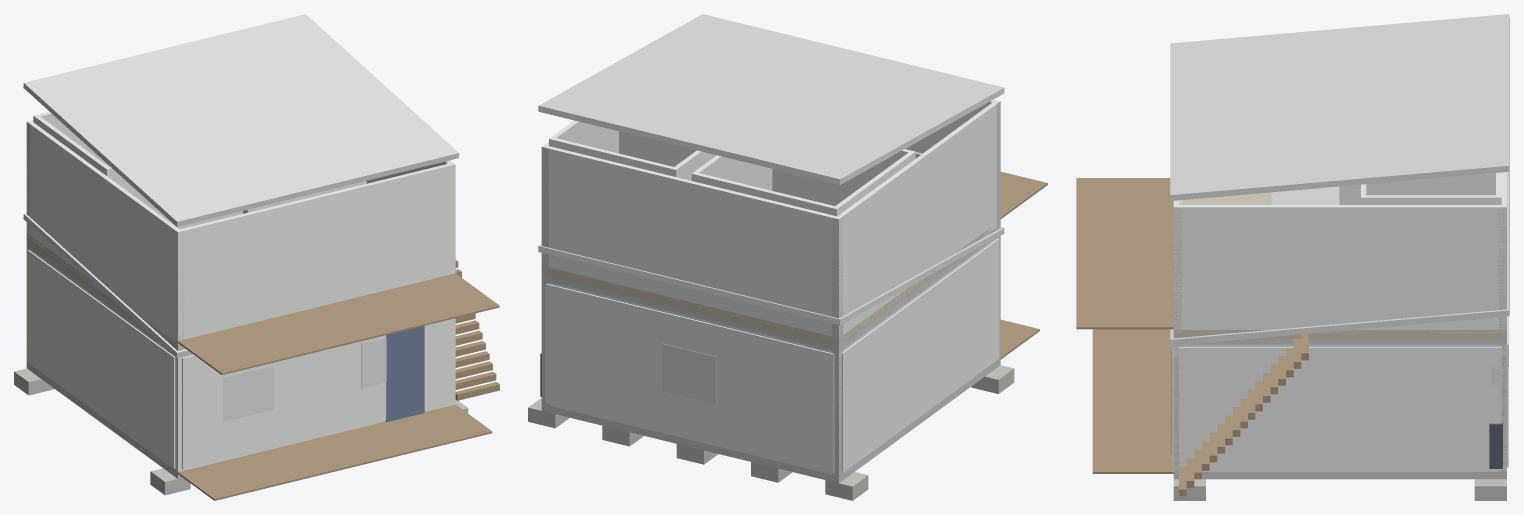
The model's file is Duplex-20-SlopingRoof+FullSolar-LOD1.glb.
The picture shows the model from 3 angles, left to right: view 1: azimuth 30°, elevation 25°; view 2: azimuth 150°, elevation 25°; view 3: azimuth 270°, elevation 25°; orthographic projection. The views are drawn at different scales.
Parts seen in each view (by area): view 1: RoofSlopingUpgrade.001, ExteriorShellUpper, ExteriorPanelsStandard, BalconyUpper, BalconyGround, WindowsStandard, EntryDoor, StaircaseExternal, ExteriorShell, BedroomUpper, FoundationBlocks, RoofSlopingUpgrade (+4 smaller); view 2: ExteriorShellUpper, ExteriorPanelsStandard, RoofSlopingUpgrade.001, BedroomUpper, VerticalStructure, StudyUpper, FloorUpper, FoundationBlocks, RoofSlopingUpgrade, BaseFrame, WindowsStandard, ExteriorShell (+3 smaller); view 3: RoofSlopingUpgrade.001, ExteriorShellUpper, ExteriorPanelsStandard, BalconyUpper, BalconyGround, RoofSlopingUpgrade, StaircaseExternal, StudyUpper, FloorUpper, VerticalStructure, ExteriorShell, BaseFrame (+3 smaller).
Boxes of the visible parts, <box> form: RoofSlopingUpgrade.001: <box>23,14,459,226</box>; ExteriorShellUpper: <box>26,120,455,347</box>; ExteriorPanelsStandard: <box>28,250,452,469</box>; BalconyUpper: <box>178,273,499,374</box>; BalconyGround: <box>178,404,492,500</box>; WindowsStandard: <box>222,338,386,421</box>; EntryDoor: <box>385,326,424,422</box>; StaircaseExternal: <box>455,260,499,400</box>; ExteriorShell: <box>26,246,455,471</box>; BedroomUpper: <box>33,112,242,228</box>; FoundationBlocks: <box>14,368,468,495</box>; RoofSlopingUpgrade: <box>23,213,192,357</box>; ExteriorShellUpper: <box>542,99,1000,339</box>; ExteriorPanelsStandard: <box>545,238,999,473</box>; RoofSlopingUpgrade.001: <box>538,14,1004,184</box>; BedroomUpper: <box>691,149,915,216</box>; VerticalStructure: <box>541,101,1000,475</box>; StudyUpper: <box>549,120,716,180</box>; FloorUpper: <box>548,228,996,347</box>; FoundationBlocks: <box>528,365,1014,500</box>; RoofSlopingUpgrade: <box>538,227,1004,325</box>; BaseFrame: <box>541,358,1000,483</box>; WindowsStandard: <box>662,343,716,404</box>; ExteriorShell: <box>548,238,1000,474</box>; RoofSlopingUpgrade.001: <box>1170,14,1509,200</box>; ExteriorShellUpper: <box>1173,172,1506,333</box>; ExteriorPanelsStandard: <box>1172,316,1508,470</box>; BalconyUpper: <box>1076,178,1173,329</box>; BalconyGround: <box>1092,329,1173,473</box>; RoofSlopingUpgrade: <box>1170,171,1509,345</box>; StaircaseExternal: <box>1179,330,1308,496</box>; StudyUpper: <box>1361,172,1501,204</box>; FloorUpper: <box>1173,192,1506,339</box>; VerticalStructure: <box>1173,204,1506,471</box>; ExteriorShell: <box>1173,344,1506,471</box>; BaseFrame: <box>1173,472,1506,479</box>.
Bounding box in the file's own units: 7.94 × 6.72 × 8.01.
